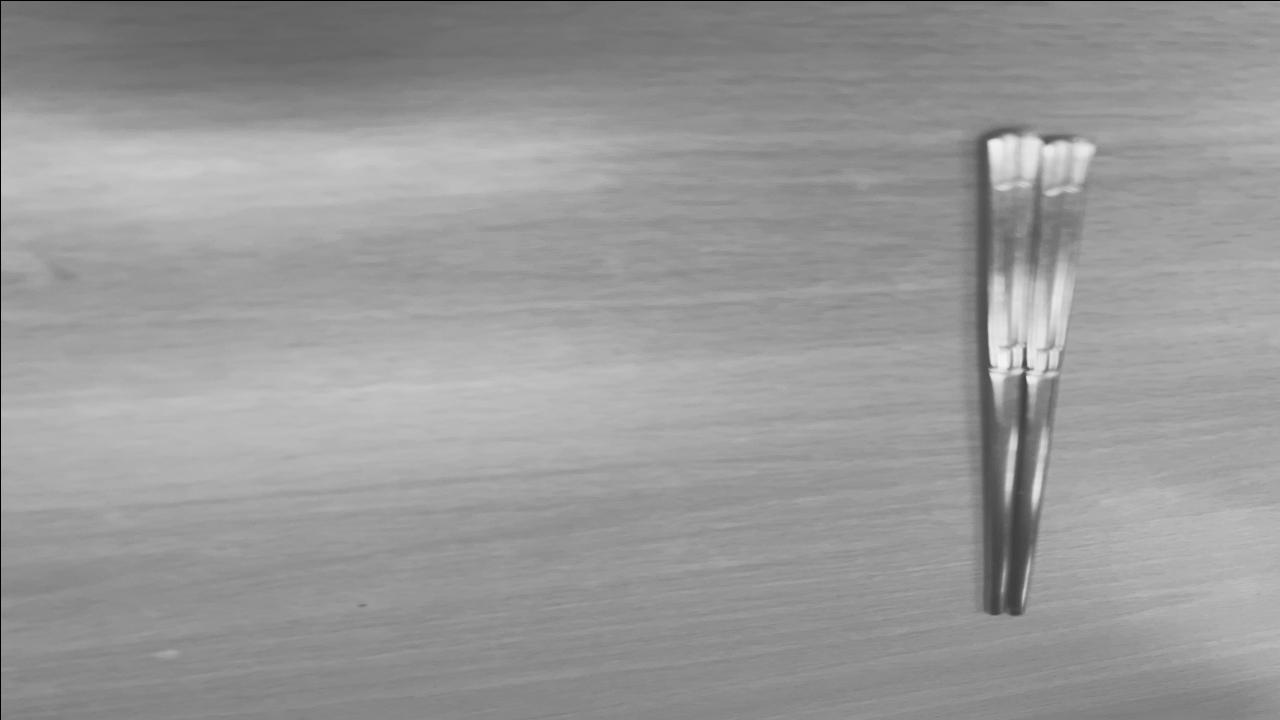chopstick: (986, 132, 1086, 616)
